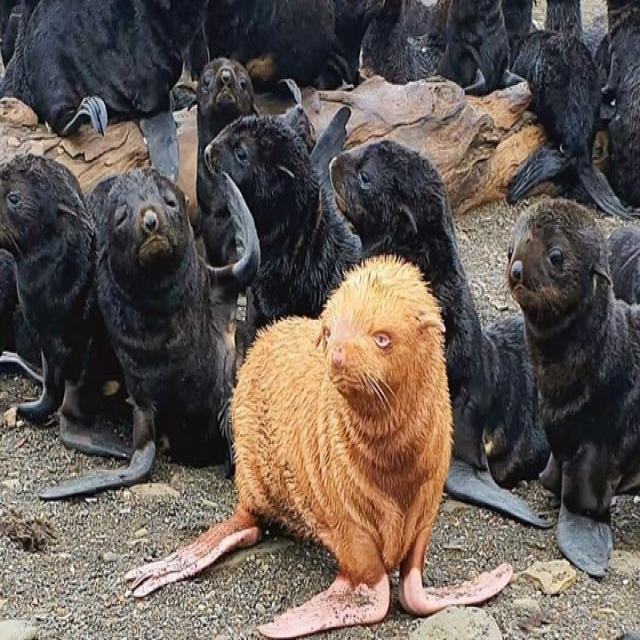WaterDog: (121, 257, 519, 607), (503, 196, 640, 579), (91, 168, 236, 480)
